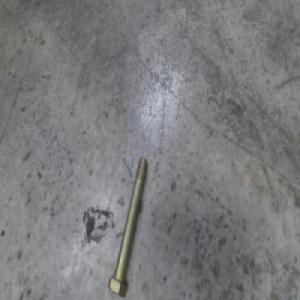Bolt: (107, 155, 147, 296)
